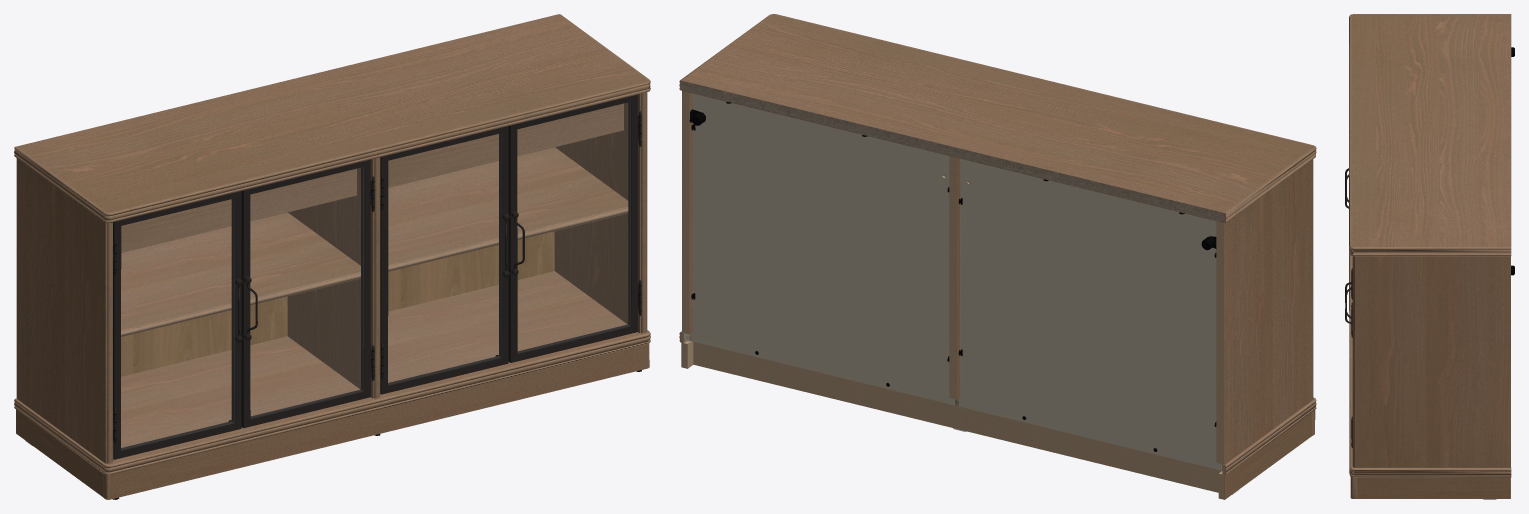
Rendered from lanesund_kredens_90466546.glb.
3 renders of one model, left to right at view 1: azimuth 30°, elevation 25°; view 2: azimuth 150°, elevation 25°; view 3: azimuth 270°, elevation 25°, orthographic. The views are drawn at different scales.
Visible parts, largest first — view 1: lanesund_kredens_90466546; view 2: lanesund_kredens_90466546; view 3: lanesund_kredens_90466546.
Boxes of the visible parts, <box> form: lanesund_kredens_90466546: <box>14,14,650,499</box>; lanesund_kredens_90466546: <box>679,14,1316,499</box>; lanesund_kredens_90466546: <box>1345,14,1514,499</box>.
Bounding box in the file's own units: 1.61 × 0.8127 × 0.4938.
18 materials, 18 textured.
